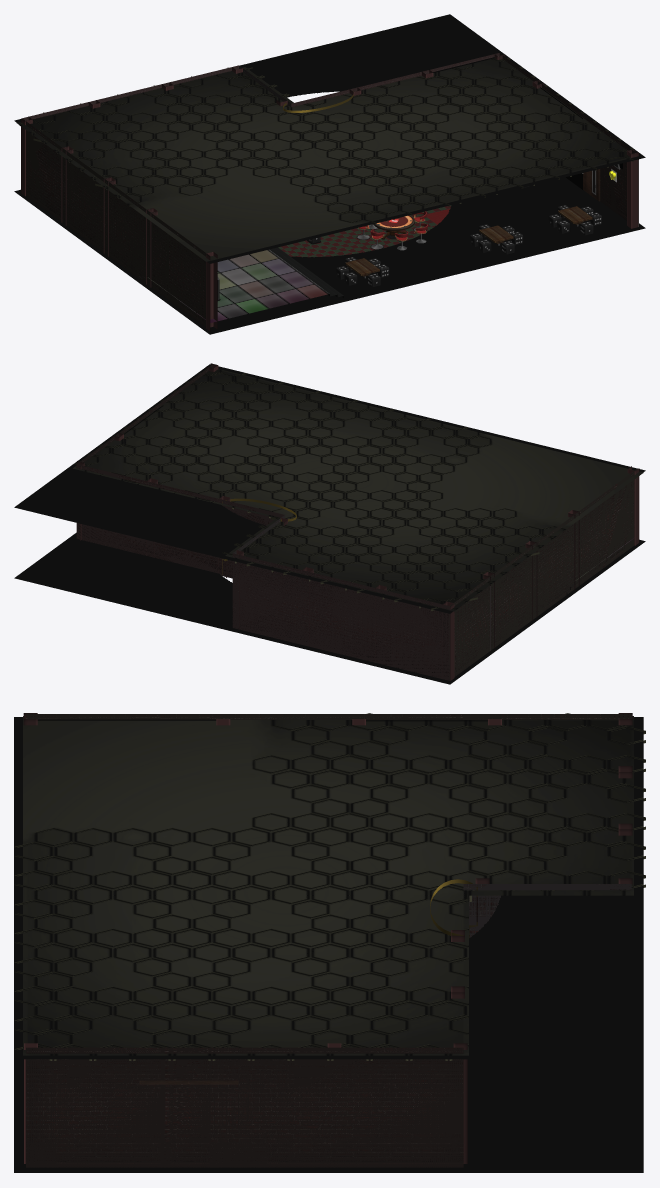
The model's file is bar_map.fbx.
3 renders of one model, top to bottom at view 1: azimuth 30°, elevation 25°; view 2: azimuth 150°, elevation 25°; view 3: azimuth 270°, elevation 25°, orthographic. The views are drawn at different scales.
Visible parts, largest first — view 1: Roof, Floor1, wall1, Roof_Shadow, Light_roof, Dj_Floor, Pillar, Furniture, Floor_Sha, wall4, wall2, wall (+3 smaller); view 2: Roof, wall2, Roof_Shadow, wall1, Floor1, Light_roof, wall, Pillar, wall4; view 3: Roof, wall4, Roof_Shadow, Light_roof, Floor1, wall1, Pillar, wall3.
Part boxes in pixels (box(x1,y1,x2,y2)): Roof: box(16, 58, 638, 261); Floor1: box(14, 177, 645, 334); wall1: box(22, 118, 210, 327); Roof_Shadow: box(14, 14, 645, 263); Light_roof: box(19, 57, 633, 224); Dj_Floor: box(138, 247, 343, 322); Pillar: box(21, 53, 638, 331); Furniture: box(307, 186, 601, 287); Floor_Sha: box(278, 205, 451, 257); wall4: box(499, 53, 635, 220); wall2: box(22, 65, 238, 120); wall: box(291, 53, 499, 107); Roof: box(73, 368, 643, 611); wall2: box(232, 553, 449, 680); Roof_Shadow: box(14, 364, 645, 613); wall1: box(449, 468, 637, 680); Floor1: box(14, 532, 645, 684); Light_roof: box(74, 372, 565, 611); wall: box(76, 464, 284, 578); Pillar: box(77, 363, 639, 680); wall4: box(77, 365, 212, 464); Roof: box(23, 716, 633, 1055); wall4: box(26, 1047, 463, 1167); Roof_Shadow: box(14, 717, 643, 1059); Light_roof: box(14, 713, 645, 1060); Floor1: box(14, 1059, 643, 1172); wall1: box(26, 714, 631, 719); Pillar: box(23, 713, 632, 1163); wall3: box(463, 884, 631, 937).
Bounding box in the file's own units: 28.14 × 4.73 × 21.76.
